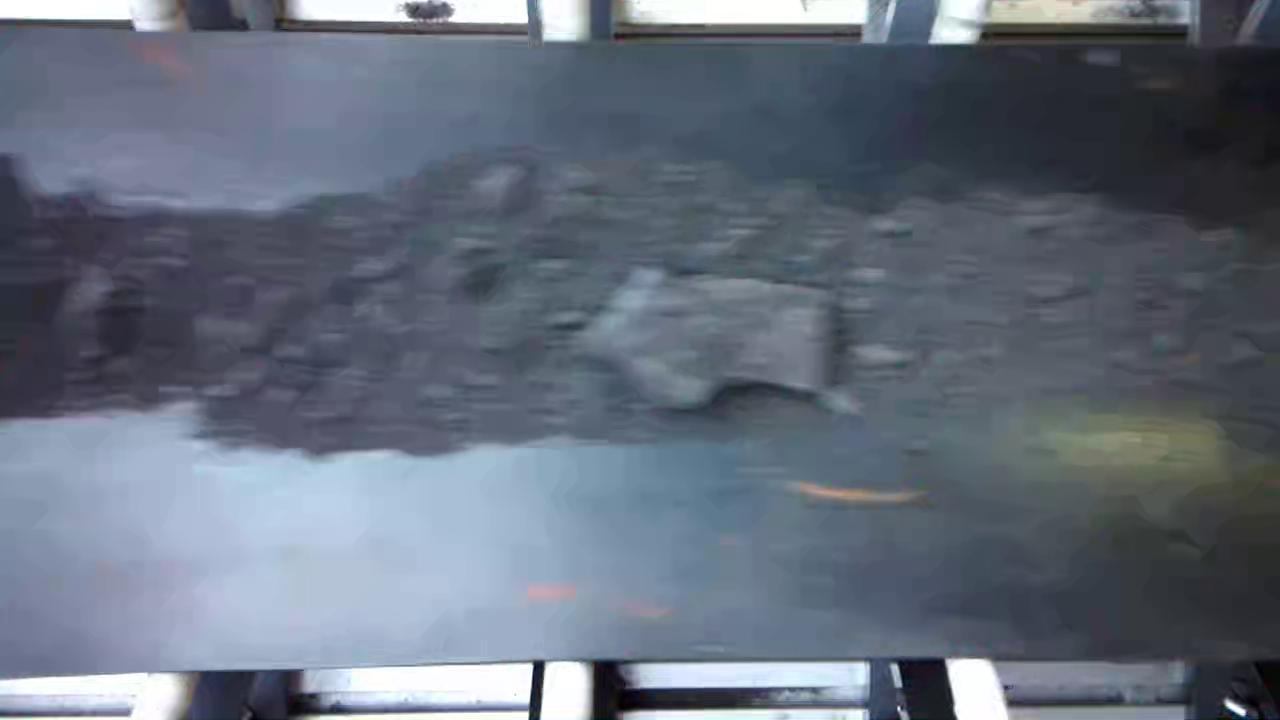conveyor: (4, 60, 1276, 653)
